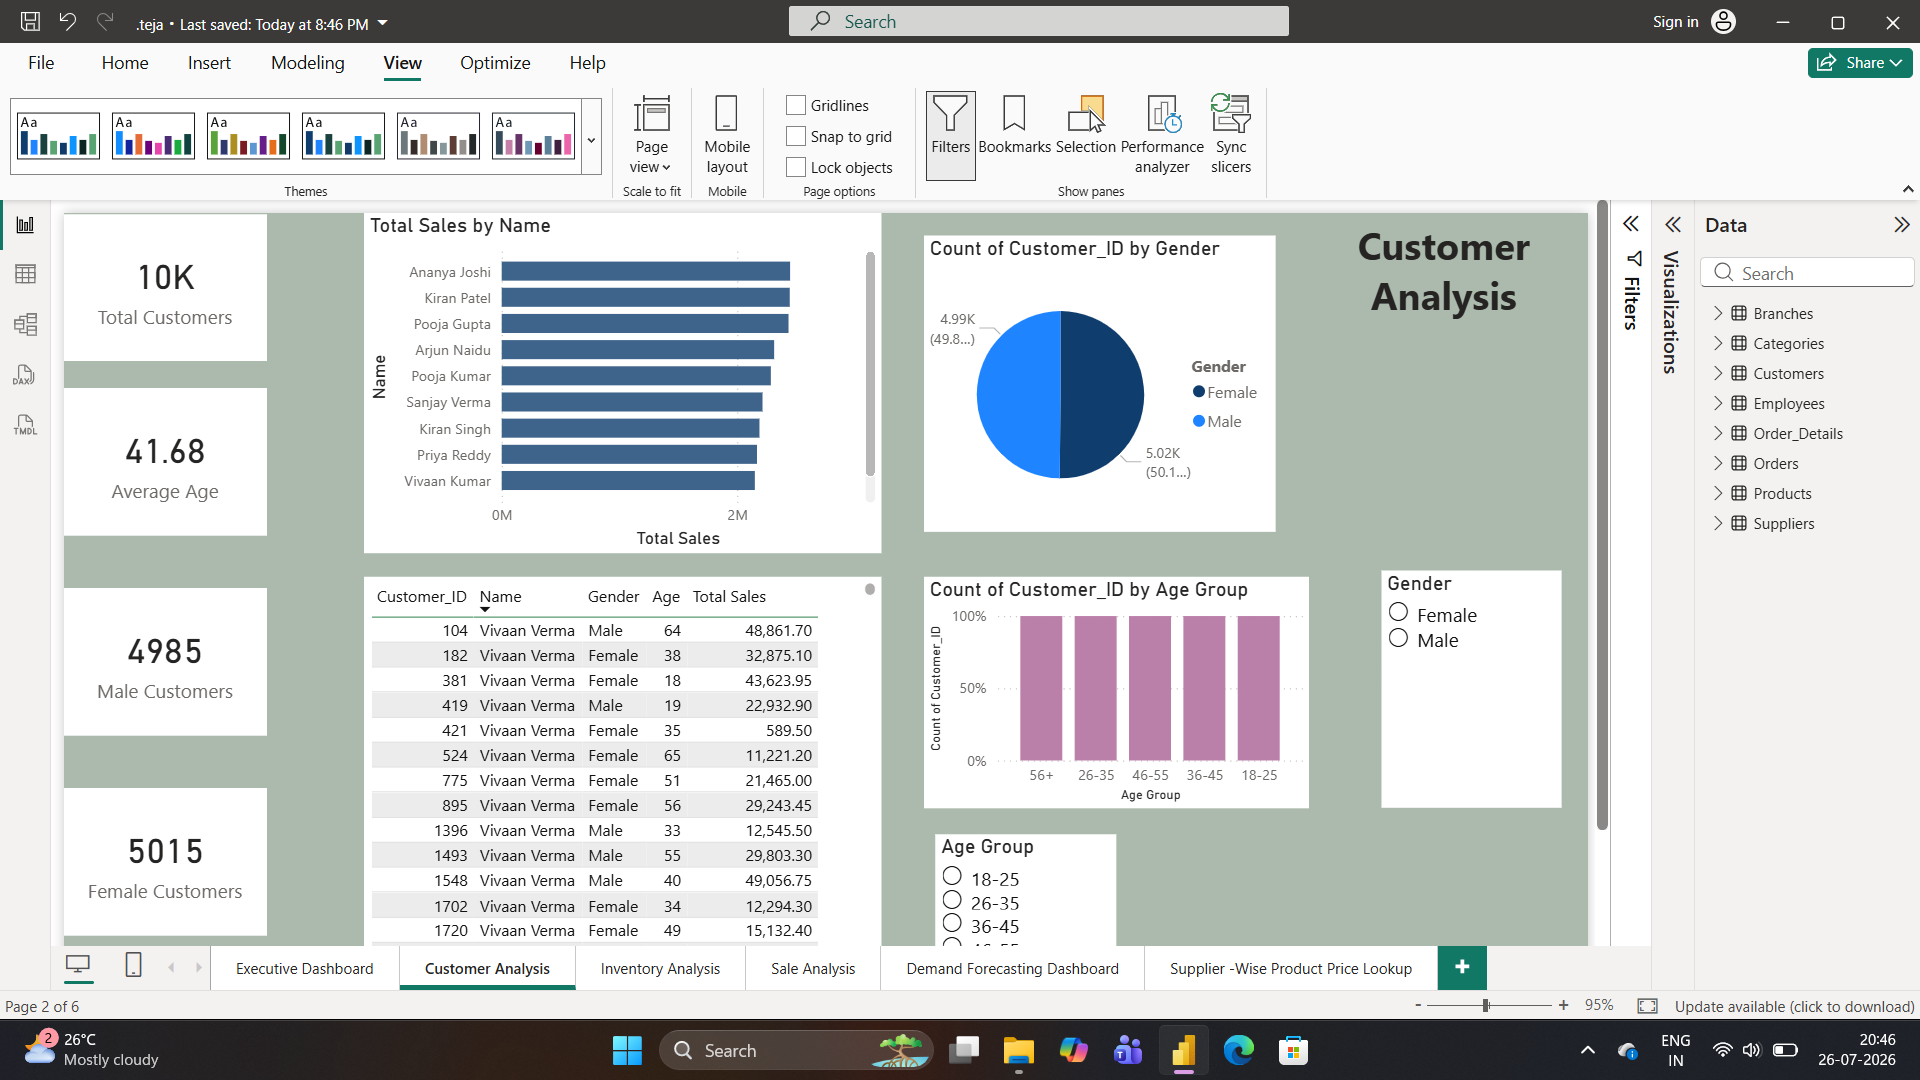

The dashboard page shown, as its layout file describes it:
{"tool":"powerbi","page":{"name":"Customer Analysis","canvas":[1280,720],"ordinal":1},"visuals":[{"type":"card","fields":{"Values":["Order_Details.Total Customers"]},"box":[0,1.2,170.1,123.1],"z":0},{"type":"card","fields":{"Values":["Customers.Average Age"]},"box":[0,147.2,170.1,124.3],"z":1000},{"type":"card","fields":{"Values":["Customers.Male Customers"]},"box":[0,314.9,170.1,124.3],"z":2000},{"type":"card","fields":{"Values":["Customers.Female Customers"]},"box":[0,482.6,170.1,124.3],"z":3000},{"type":"pieChart","fields":{"Category":["Customers.Gender"],"Y":["CountNonNull(Customers.Customer_ID)"]},"box":[721.5,19.3,295.6,248.5],"z":4000},{"type":"hundredPercentStackedColumnChart","fields":{"Y":["CountNonNull(Customers.Customer_ID)"],"Category":["Customers.Age Group"]},"box":[721.5,305.2,323.3,194.2],"z":5000},{"type":"clusteredBarChart","fields":{"Y":["Order_Details.Total Sales"],"Category":["Customers.Name"]},"box":[252.1,0,434.3,285.9],"z":6000},{"type":"tableEx","fields":{"Values":["Customers.Customer_ID","Customers.Name","Customers.Gender","Customers.Age","Order_Details.Total Sales"]},"box":[252.1,305.2,434.3,388.5],"z":7000},{"type":"listSlicer","fields":{"Values":["Customers.Gender"]},"box":[1106.3,300.4,150.8,199.1],"z":8000},{"type":"listSlicer","fields":{"Values":["Customers.Age Group"]},"box":[731.1,521.2,152,195.4],"z":9000},{"type":"textbox","box":[1060,0,197,161],"z":10000}]}

Visuals, with their boxes on the page's 1280x720 design canvas (x1, y1, x2, y2). These are canvas units, not pixel positions in the 1920x1080 screenshot, which may show the page scaled, cropped or inside an application window:
card - Order_Details.Total Customers: {"x1": 0, "y1": 1, "x2": 170, "y2": 124}
card - Customers.Average Age: {"x1": 0, "y1": 147, "x2": 170, "y2": 272}
card - Customers.Male Customers: {"x1": 0, "y1": 315, "x2": 170, "y2": 439}
card - Customers.Female Customers: {"x1": 0, "y1": 483, "x2": 170, "y2": 607}
pieChart - Customers.Gender x CountNonNull(Customers.Customer_ID): {"x1": 722, "y1": 19, "x2": 1017, "y2": 268}
hundredPercentStackedColumnChart - CountNonNull(Customers.Customer_ID) x Customers.Age Group: {"x1": 722, "y1": 305, "x2": 1045, "y2": 499}
clusteredBarChart - Order_Details.Total Sales x Customers.Name: {"x1": 252, "y1": 0, "x2": 686, "y2": 286}
tableEx - Customers.Customer_ID x Customers.Name: {"x1": 252, "y1": 305, "x2": 686, "y2": 694}
listSlicer - Customers.Gender: {"x1": 1106, "y1": 300, "x2": 1257, "y2": 500}
listSlicer - Customers.Age Group: {"x1": 731, "y1": 521, "x2": 883, "y2": 717}
textbox: {"x1": 1060, "y1": 0, "x2": 1257, "y2": 161}
